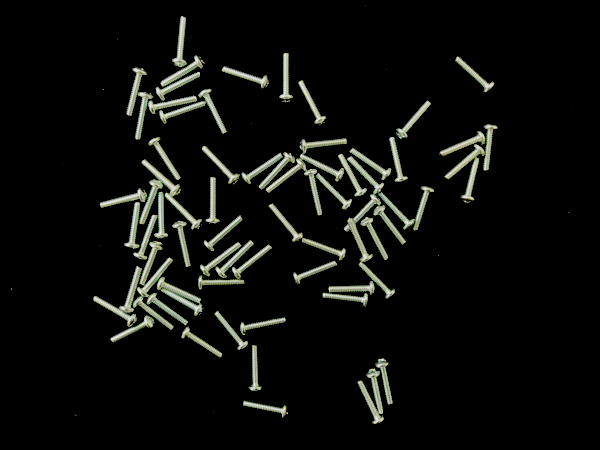longscrew: (202, 213, 246, 253), (443, 143, 485, 184), (200, 145, 242, 186), (163, 192, 206, 232), (454, 56, 498, 95), (215, 239, 256, 280), (136, 257, 176, 299), (395, 100, 434, 143), (198, 240, 242, 278), (148, 136, 183, 183), (346, 155, 387, 195), (375, 191, 417, 230), (140, 159, 183, 197), (264, 158, 307, 196), (231, 243, 274, 281), (146, 293, 191, 329), (342, 194, 382, 234), (257, 151, 296, 192), (159, 55, 206, 89), (357, 262, 399, 300), (197, 88, 230, 136), (241, 152, 285, 188), (132, 296, 176, 332), (180, 326, 225, 361), (438, 129, 487, 161), (297, 79, 329, 128), (267, 203, 306, 243), (213, 310, 250, 352), (92, 295, 139, 328), (349, 147, 393, 182), (372, 205, 409, 246), (155, 71, 203, 102), (314, 173, 353, 211), (336, 153, 368, 199), (360, 216, 391, 263), (108, 315, 155, 346), (357, 379, 387, 427), (297, 153, 346, 182), (158, 288, 206, 317), (346, 217, 375, 264), (133, 213, 160, 262), (158, 100, 207, 126), (118, 266, 144, 315), (125, 67, 149, 120), (138, 240, 165, 287), (221, 66, 271, 91), (138, 179, 164, 227), (156, 278, 204, 304), (292, 261, 339, 287), (412, 184, 436, 234), (98, 188, 148, 212), (133, 91, 156, 142), (300, 238, 348, 262), (387, 136, 410, 186), (374, 357, 397, 407), (459, 156, 482, 205), (363, 368, 386, 417), (148, 94, 198, 116), (303, 168, 325, 218), (239, 315, 289, 337), (172, 220, 194, 270), (170, 15, 190, 69), (242, 399, 292, 420), (299, 136, 349, 156), (123, 202, 143, 252), (482, 121, 500, 175), (278, 52, 295, 105), (196, 274, 246, 292), (204, 176, 221, 228), (248, 343, 265, 393), (325, 282, 377, 298), (153, 189, 169, 241), (321, 293, 372, 309)
